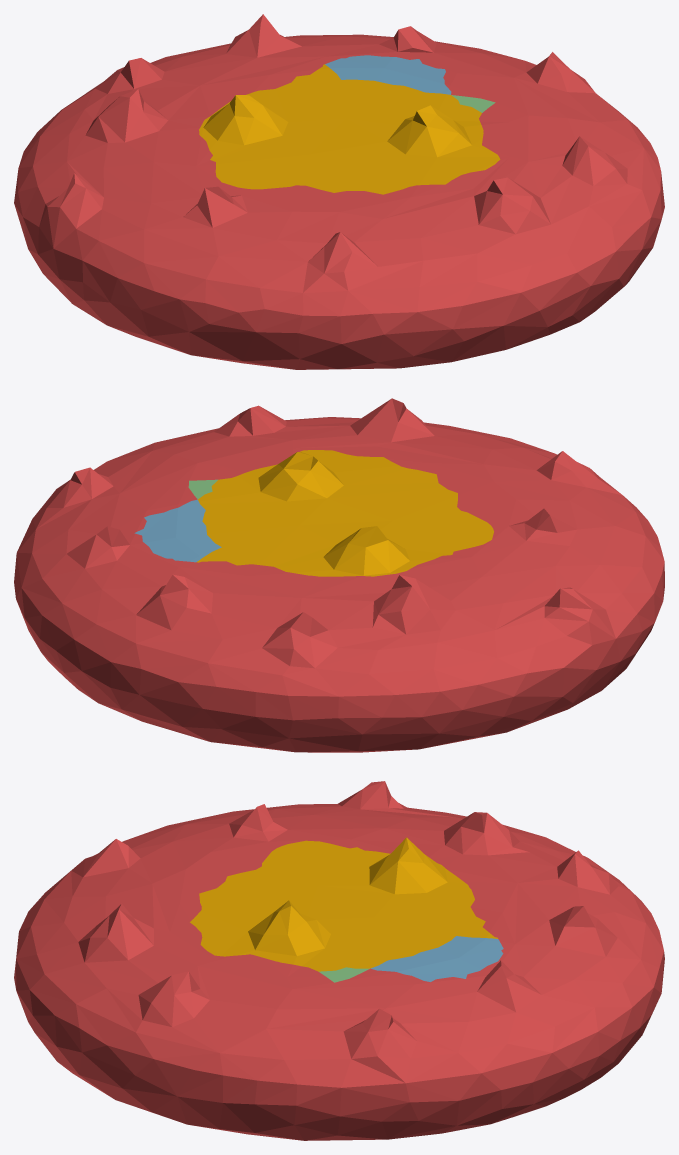
The model's file is fractured_23_4pcs.glb.
The picture shows the model from 3 angles, top to bottom: view 1: azimuth 30°, elevation 25°; view 2: azimuth 150°, elevation 25°; view 3: azimuth 270°, elevation 25°; orthographic projection.
Parts seen in each view (by area): view 1: piece_1.obj, piece_0.obj, piece_2.obj; view 2: piece_1.obj, piece_0.obj, piece_2.obj; view 3: piece_1.obj, piece_0.obj, piece_2.obj.
Part boxes in pixels (<box>): piece_1.obj: <box>14,14,664,369</box>; piece_0.obj: <box>199,64,500,194</box>; piece_2.obj: <box>325,55,451,94</box>; piece_1.obj: <box>14,398,664,752</box>; piece_0.obj: <box>196,450,493,576</box>; piece_2.obj: <box>134,499,221,562</box>; piece_1.obj: <box>14,781,664,1140</box>; piece_0.obj: <box>190,837,497,971</box>; piece_2.obj: <box>371,936,503,981</box>.
Size of the model in its own units: 0.9983 by 0.2496 by 1.
